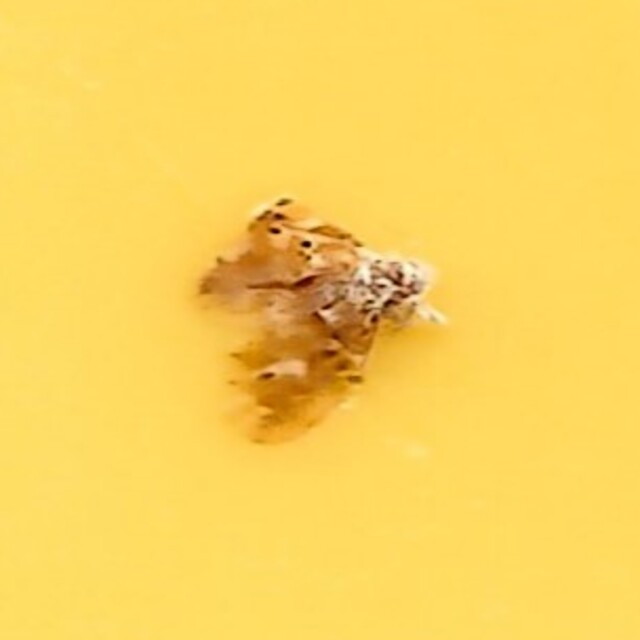Hemiptera: (211, 190, 429, 450)
